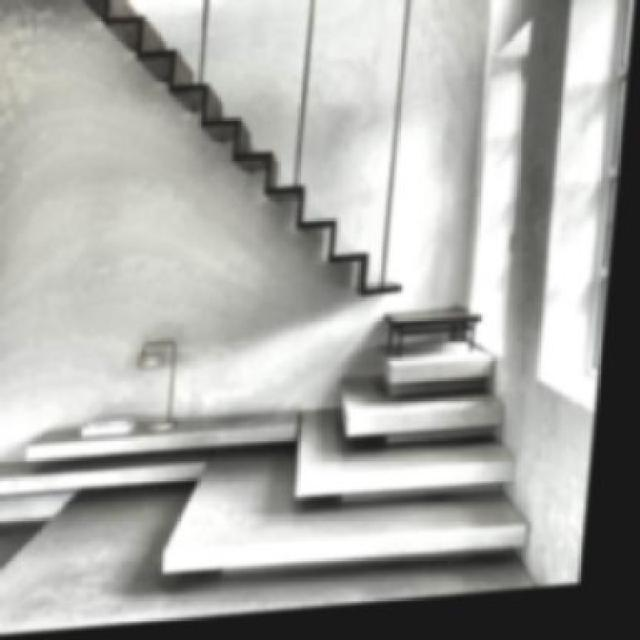stair: (255, 312, 560, 574)
